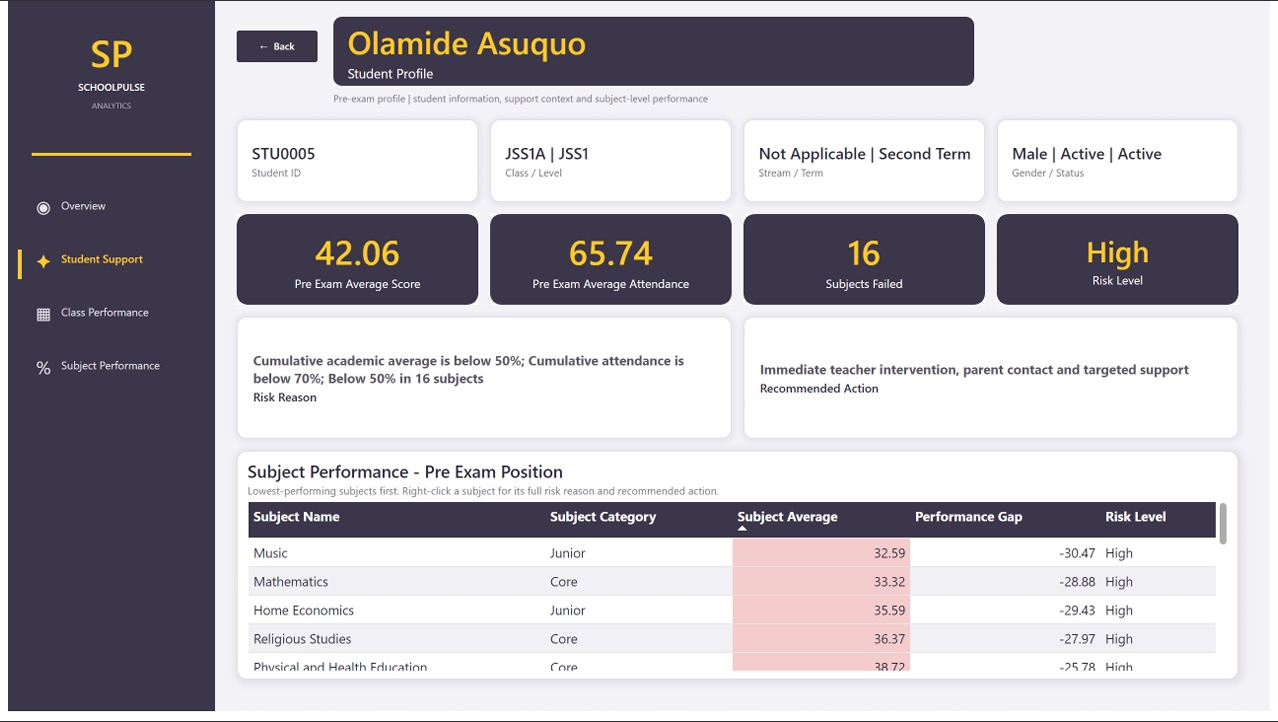

What the dashboard file says about the page in this screenshot:
{"tool":"powerbi","page":{"name":"Student Profile","canvas":[1280,720],"ordinal":6},"visuals":[{"type":"shape","box":[0,0,210,720],"z":0},{"type":"textbox","box":[28,26,154,108],"z":1000},{"type":"shape","box":[24,154,162,3],"z":2000},{"type":"shape","box":[10,252,4,30],"z":3000},{"type":"textbox","box":[22,197,28,30],"z":4000},{"type":"textbox","box":[22,251,28,30],"z":5000},{"type":"textbox","box":[22,305,28,30],"z":7000},{"type":"textbox","box":[22,359,28,30],"z":8000},{"type":"textbox","box":[54,305,142,30],"z":9000},{"type":"textbox","box":[54,251,142,30],"z":10000},{"type":"textbox","box":[54,359,142,30],"z":11000},{"type":"textbox","box":[54,197,142,30],"z":12000},{"type":"actionButton","box":[14,190,182,46],"z":14000},{"type":"actionButton","box":[14,244,182,46],"z":15000},{"type":"actionButton","box":[14,298,182,46],"z":16000},{"type":"actionButton","box":[14,352,182,46],"z":17000},{"type":"cardVisual","fields":{"Data":["Student Overview.Selected Student Name"]},"box":[330,16,650,70],"z":50000},{"type":"textbox","box":[330,88,850,24],"z":50001},{"type":"cardVisual","fields":{"Data":["Student Overview.Selected Student ID"]},"box":[232,120,245,84],"z":51000},{"type":"cardVisual","fields":{"Data":["Student Overview.Selected Student Class Context"]},"box":[489,120,245,84],"z":51001},{"type":"cardVisual","fields":{"Data":["Student Overview.Selected Student Academic Context"]},"box":[746,120,245,84],"z":51002},{"type":"cardVisual","fields":{"Data":["Student Overview.Selected Student Status Context"]},"box":[1003,120,245,84],"z":51003},{"type":"cardVisual","fields":{"Data":["Student Overview.Selected Student Avg Score"]},"box":[232,216,245,92],"z":52000},{"type":"cardVisual","fields":{"Data":["Student Overview.Selected Student Attendance"]},"box":[489,216,245,92],"z":52001},{"type":"cardVisual","fields":{"Data":["Student Overview.Selected Student Subjects Failed"]},"box":[746,216,245,92],"z":52002},{"type":"cardVisual","fields":{"Data":["Student Overview.Selected Student Risk Level"]},"box":[1003,216,245,92],"z":52003},{"type":"cardVisual","fields":{"Data":["Student Overview.Selected Student Risk Reason"]},"box":[232,320,502,124],"z":53000},{"type":"cardVisual","fields":{"Data":["Student Overview.Selected Student Recommended Action"]},"box":[746,320,502,124],"z":53001},{"type":"tableEx","title":"Subject Performance - Pre Exam Position","fields":{"Values":["Subject Performance.Subject Name","Subject Performance.Subject Category","Subject Performance.Subject Average","Subject Performance.Performance Gap","Subject Performance.Risk Level","Subject Performance.Student ID"]},"box":[232,456,1016,232],"z":54000},{"type":"shape","box":[232,30,82,32],"z":63000},{"type":"textbox","box":[232,35,82,22],"z":63001},{"type":"actionButton","box":[232,30,82,32],"z":63002}]}

Visuals, with their boxes on the page's 1280x720 design canvas (x1, y1, x2, y2). These are canvas units, not pixel positions in the 1278x722 screenshot, which may show the page scaled, cropped or inside an application window:
shape: <box>0,0,210,720</box>
textbox: <box>28,26,182,134</box>
shape: <box>24,154,186,157</box>
shape: <box>10,252,14,282</box>
textbox: <box>22,197,50,227</box>
textbox: <box>22,251,50,281</box>
textbox: <box>22,305,50,335</box>
textbox: <box>22,359,50,389</box>
textbox: <box>54,305,196,335</box>
textbox: <box>54,251,196,281</box>
textbox: <box>54,359,196,389</box>
textbox: <box>54,197,196,227</box>
actionButton: <box>14,190,196,236</box>
actionButton: <box>14,244,196,290</box>
actionButton: <box>14,298,196,344</box>
actionButton: <box>14,352,196,398</box>
cardVisual - Student Overview.Selected Student Name: <box>330,16,980,86</box>
textbox: <box>330,88,1180,112</box>
cardVisual - Student Overview.Selected Student ID: <box>232,120,477,204</box>
cardVisual - Student Overview.Selected Student Class Context: <box>489,120,734,204</box>
cardVisual - Student Overview.Selected Student Academic Context: <box>746,120,991,204</box>
cardVisual - Student Overview.Selected Student Status Context: <box>1003,120,1248,204</box>
cardVisual - Student Overview.Selected Student Avg Score: <box>232,216,477,308</box>
cardVisual - Student Overview.Selected Student Attendance: <box>489,216,734,308</box>
cardVisual - Student Overview.Selected Student Subjects Failed: <box>746,216,991,308</box>
cardVisual - Student Overview.Selected Student Risk Level: <box>1003,216,1248,308</box>
cardVisual - Student Overview.Selected Student Risk Reason: <box>232,320,734,444</box>
cardVisual - Student Overview.Selected Student Recommended Action: <box>746,320,1248,444</box>
"Subject Performance - Pre Exam Position" tableEx: <box>232,456,1248,688</box>
shape: <box>232,30,314,62</box>
textbox: <box>232,35,314,57</box>
actionButton: <box>232,30,314,62</box>
